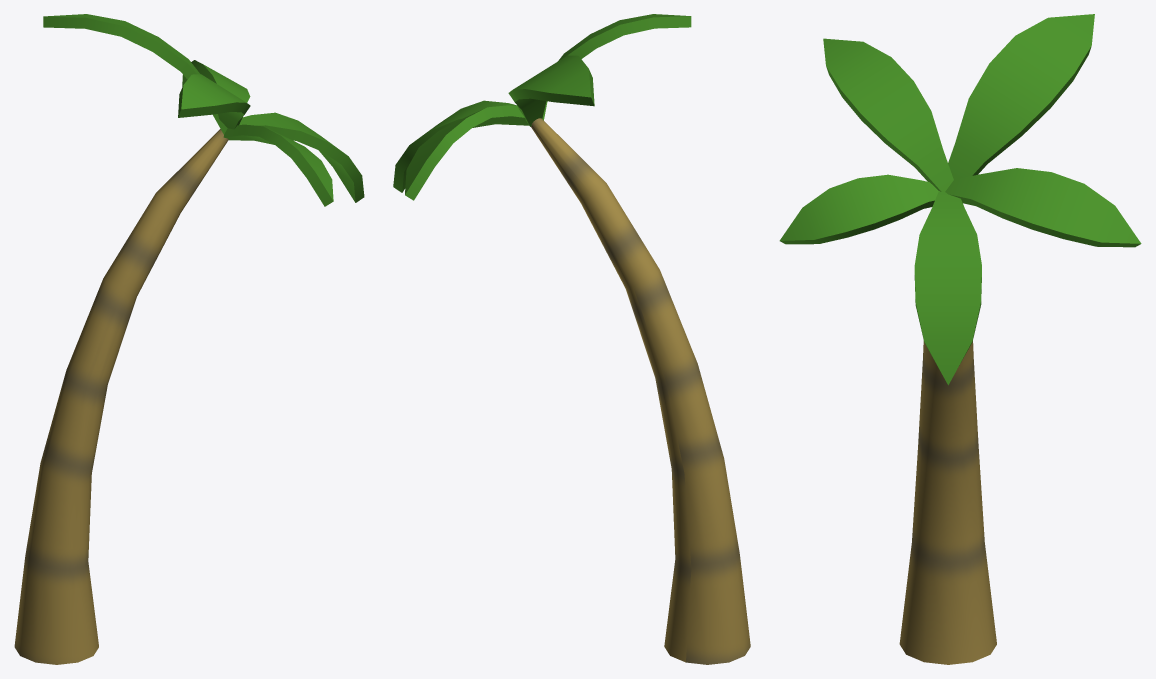
The model's file is palm.fbx.
3 views of the same model, side by side, from view 1: azimuth 30°, elevation 25°; view 2: azimuth 150°, elevation 25°; view 3: azimuth 270°, elevation 25° (orthographic). The views are drawn at different scales.
Visible parts, largest first — view 1: Cylinder; view 2: Cylinder; view 3: Cylinder.
Boxes of the visible parts, <box> form: Cylinder: <box>14,14,364,664</box>; Cylinder: <box>393,14,750,664</box>; Cylinder: <box>779,14,1141,664</box>.
Size of the model in its own units: 546 by 879 by 432.
Materials: 1 (1 with a texture image).
